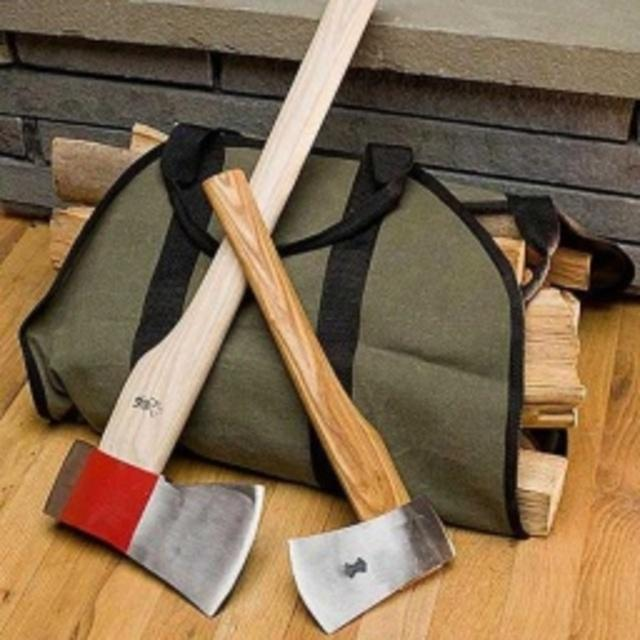ax: (39, 0, 383, 596), (198, 165, 466, 640)
